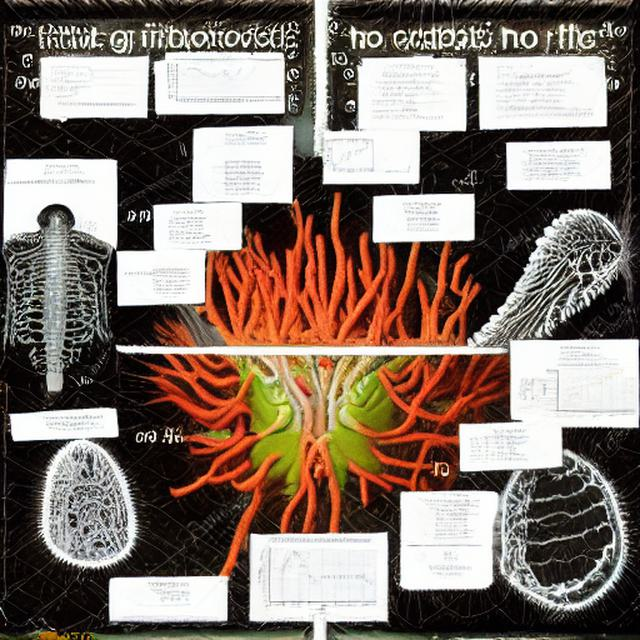Graph: (253, 537, 381, 613), (541, 362, 638, 420), (167, 57, 245, 107), (325, 134, 379, 175)
